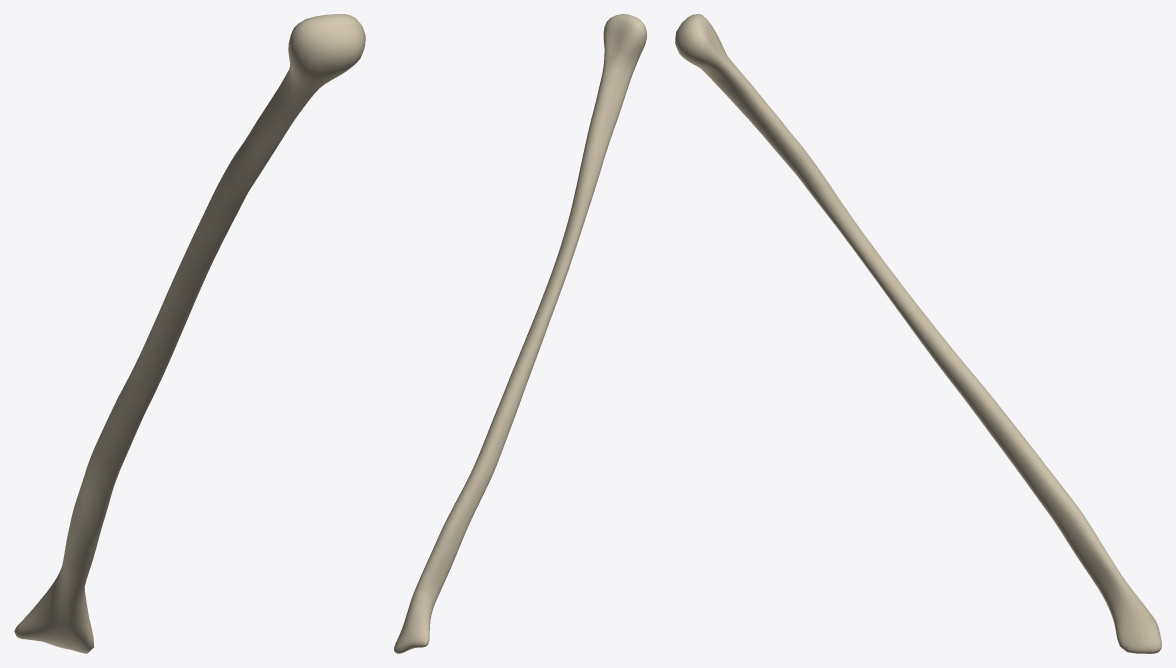
Rendered from L Fibula.fbx.
3 renders of one model, left to right at view 1: azimuth 30°, elevation 25°; view 2: azimuth 150°, elevation 25°; view 3: azimuth 270°, elevation 25°, orthographic. The views are drawn at different scales.
Parts seen in each view (by area): view 1: L Fibula; view 2: L Fibula; view 3: L Fibula.
Boxes of the visible parts, x1,y1,x2,y2 form: L Fibula: (14, 14, 365, 653); L Fibula: (394, 14, 646, 653); L Fibula: (675, 14, 1161, 653).
Bounding box in the file's own units: 3.74 × 28.34 × 20.44.
